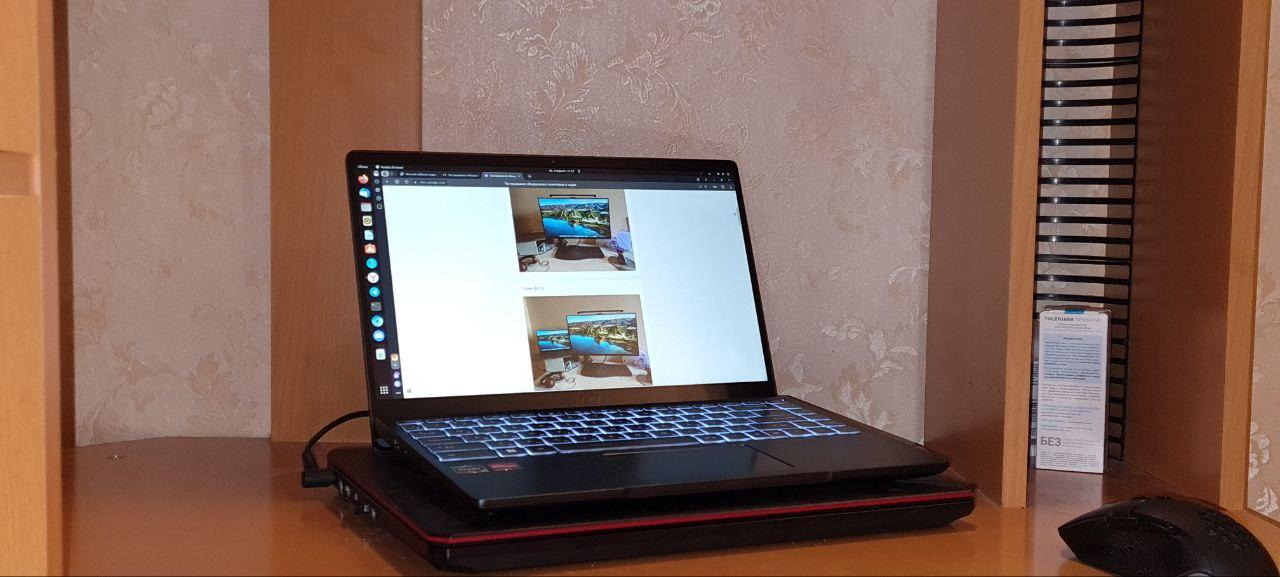monitor: (338, 143, 782, 416)
